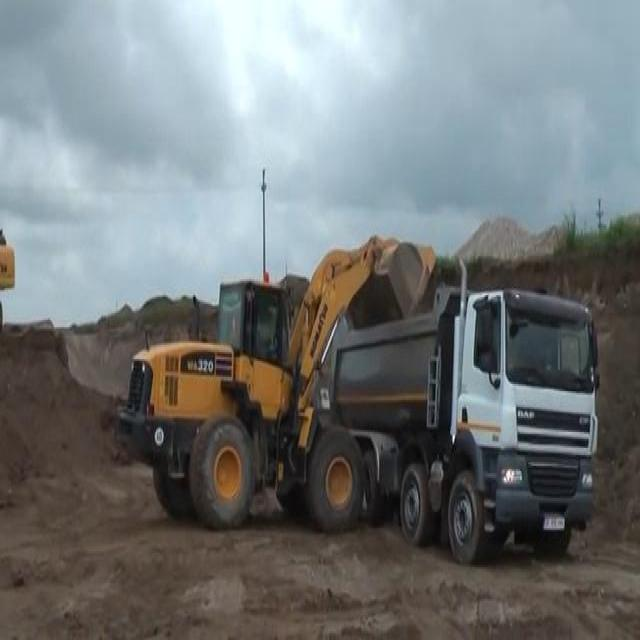Dump Truck: (324, 256, 599, 567)
Loader: (114, 233, 438, 533)
